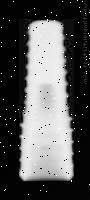AGS Medikal: (16, 18, 74, 181)
